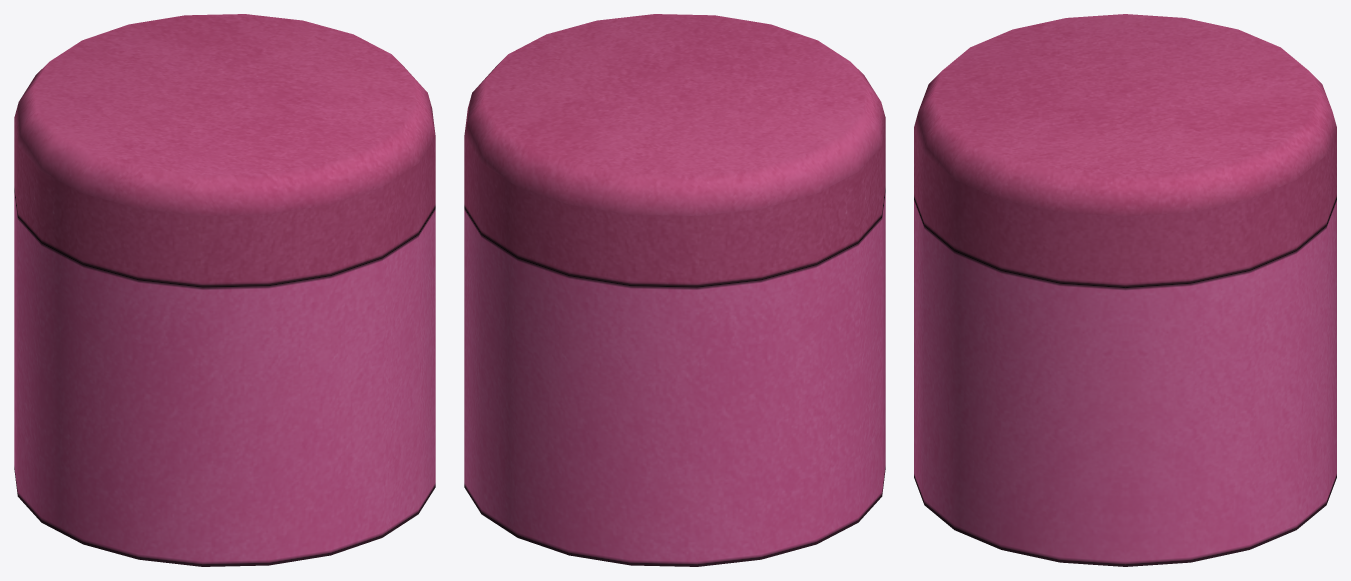
File: ottoman2.fbx
3 views of the same model, side by side, from view 1: azimuth 30°, elevation 25°; view 2: azimuth 150°, elevation 25°; view 3: azimuth 270°, elevation 25° (orthographic).
Parts seen in each view (by area): view 1: polySurface1287; view 2: polySurface1287; view 3: polySurface1287.
Boxes of the visible parts, <box> form: polySurface1287: <box>14,14,435,566</box>; polySurface1287: <box>464,14,885,566</box>; polySurface1287: <box>914,14,1336,566</box>.
Bounding box in the file's own units: 0.4524 × 0.4514 × 0.4524.
